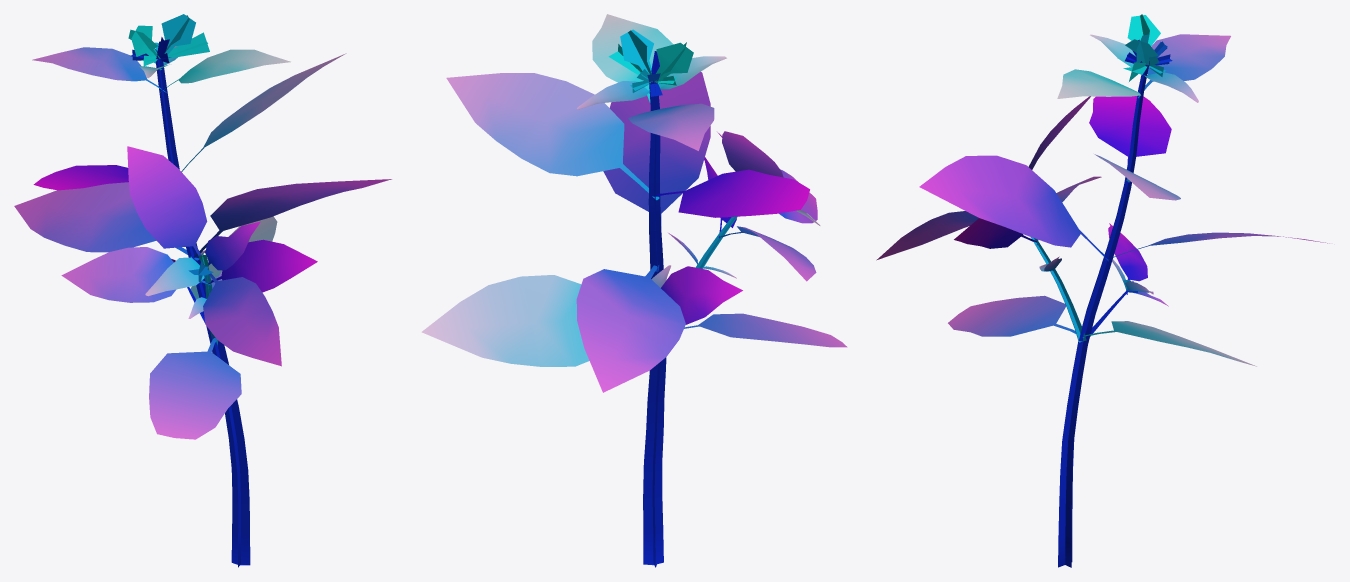
The model's file is Common_Hemp_Nettle_xh1kdfbqx_Mid_xh1kdfbqx_VarB_LOD0.fbx.
3 renders of one model, left to right at view 1: azimuth 30°, elevation 25°; view 2: azimuth 150°, elevation 25°; view 3: azimuth 270°, elevation 25°, orthographic. The views are drawn at different scales.
Visible parts, largest first — view 1: _bda0_VarB_LOD1; view 2: _bda0_VarB_LOD1; view 3: _bda0_VarB_LOD1.
Boxes of the visible parts, left/top/right/bottom form: _bda0_VarB_LOD1: left=14, top=14, right=391, bottom=567; _bda0_VarB_LOD1: left=421, top=14, right=847, bottom=567; _bda0_VarB_LOD1: left=876, top=14, right=1329, bottom=567.
Bounding box in the file's own units: 50.74 × 79.43 × 63.6.
